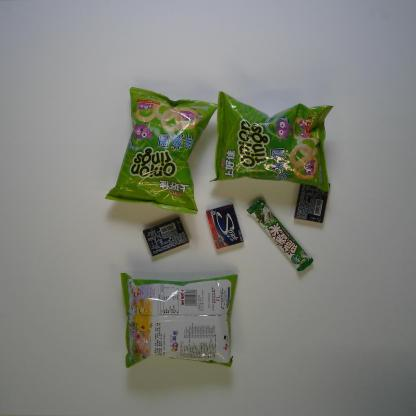Chocolate: (245, 196, 315, 273)
Gum: (142, 216, 190, 258), (205, 202, 244, 250), (293, 182, 331, 224)
Puffed Food: (103, 86, 218, 216), (208, 90, 335, 195), (119, 272, 238, 369)
